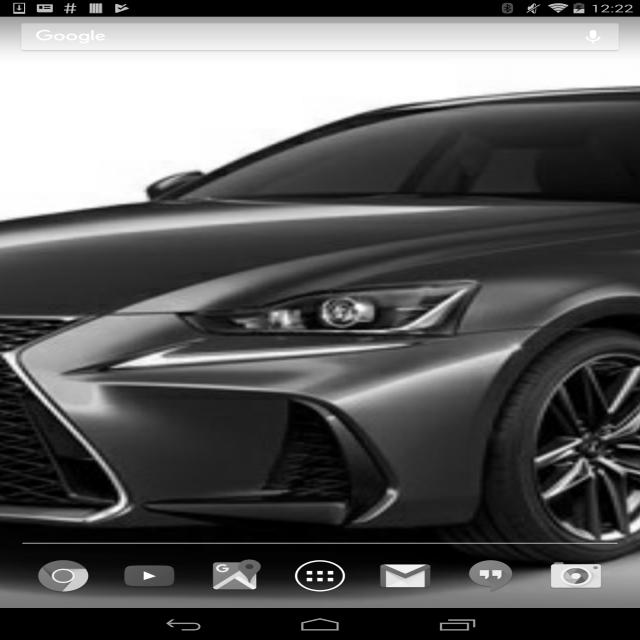ImageView: (205, 558, 271, 594), (370, 562, 441, 593), (28, 561, 92, 593), (543, 562, 607, 592), (118, 562, 171, 589), (464, 562, 512, 589)
